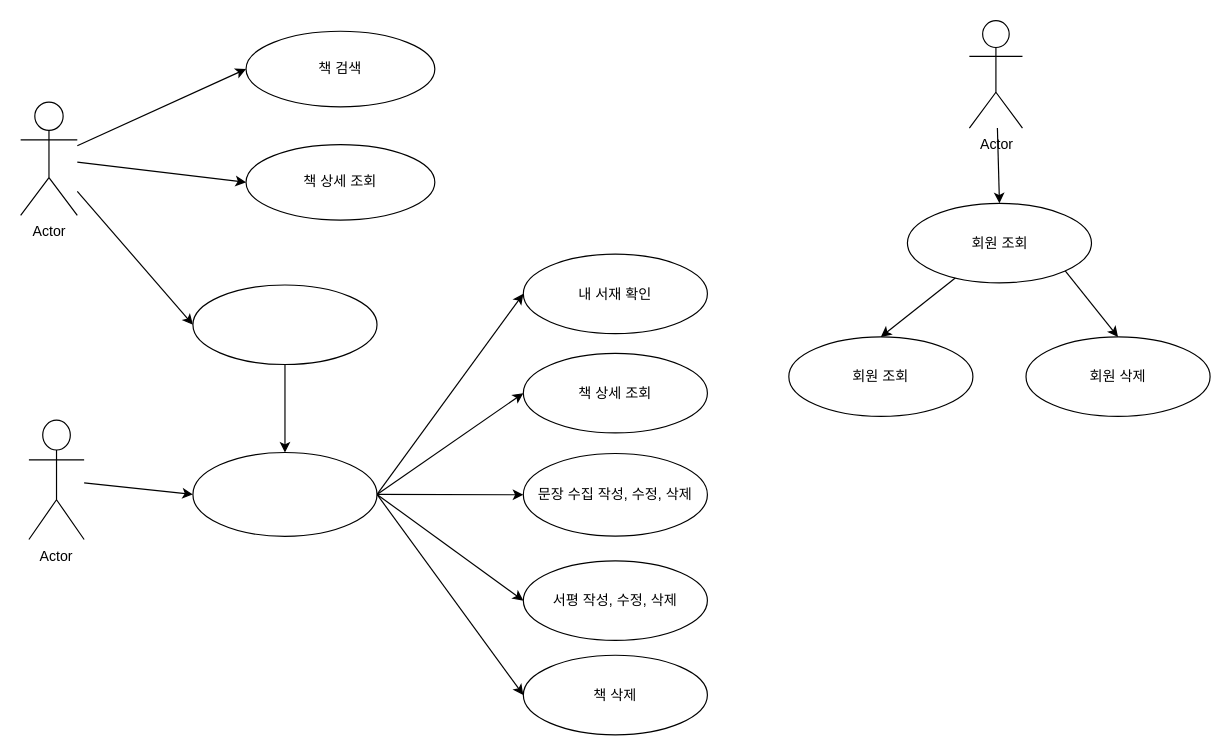
Some shapes in this 1231 by 756 pixel diagram are drawn without their labels. Each missing label, with the centre of its shape:
"로그인" belongs at (284,493).
"회원 가입" belongs at (284,324).
